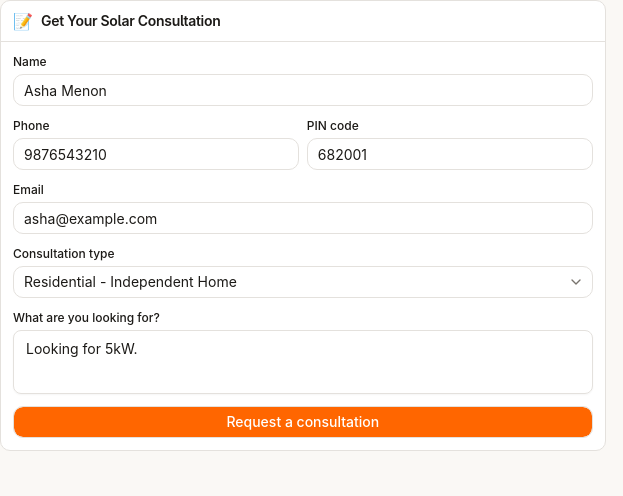
it: LeadFormCard › shows a failure and no confirmation when the server refuses
The width and height of the screenshot is (623, 496).
Step 1. Click the button "Request a consultation" → click(303, 422), box [13,406,593,438]
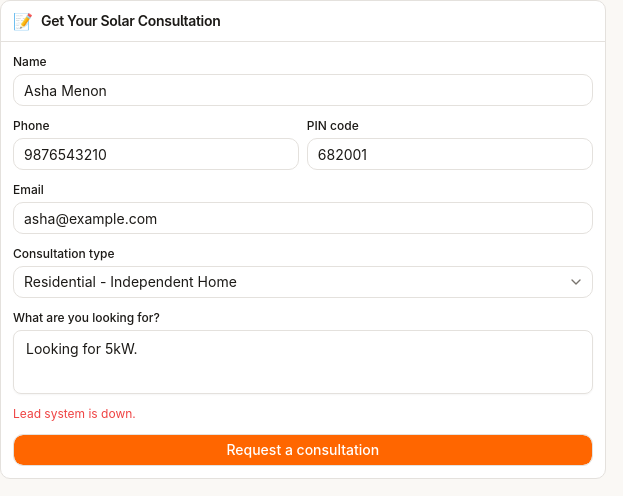
Check: the message reads "Lead system is down.", box [13,406,136,421]
